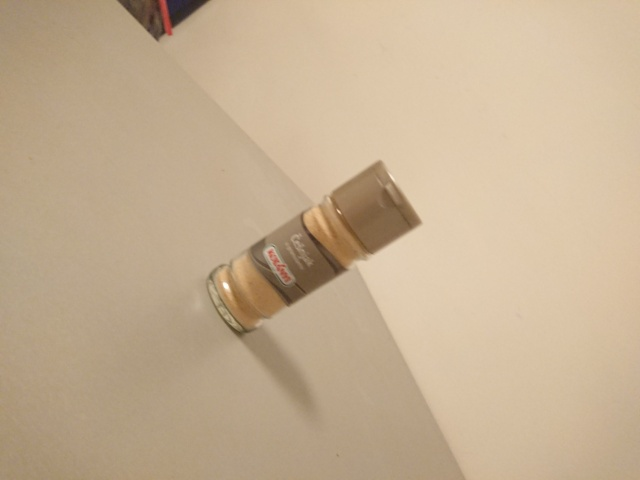Kotanyi Garlic Granules 70g: (202, 156, 426, 336)
